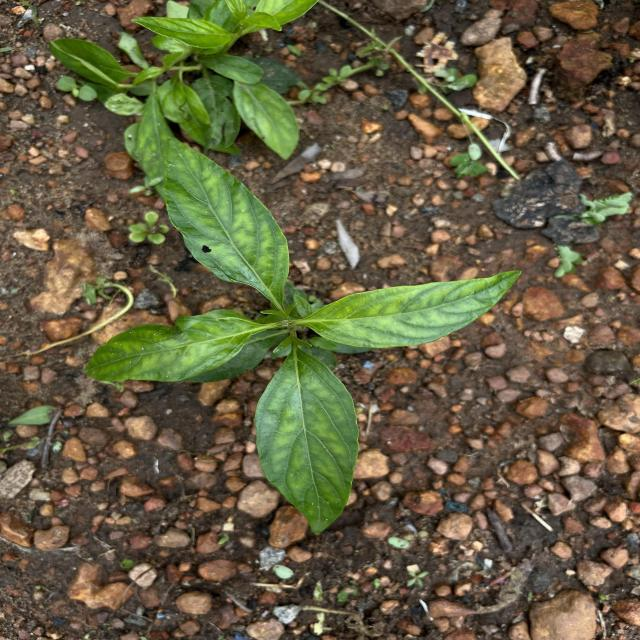Andrographis paniculata: (162, 134, 292, 310), (252, 348, 361, 536), (300, 268, 525, 350), (82, 313, 262, 384)
